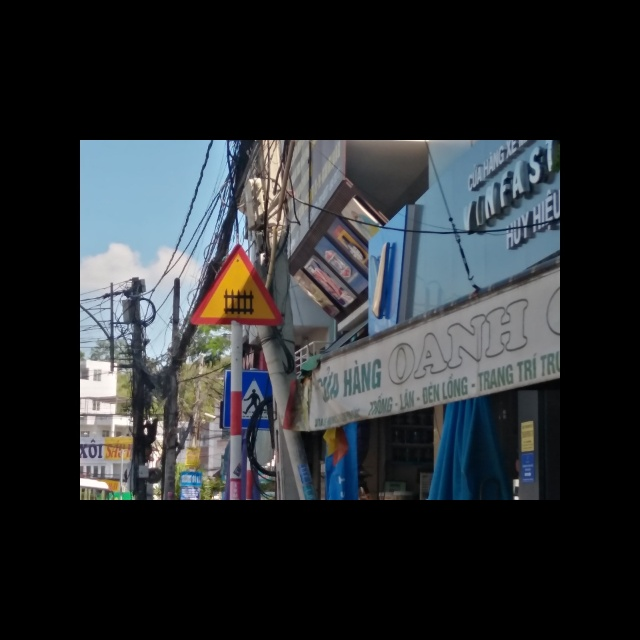Giao nhau với đường sắt có rào chắn: (190, 242, 287, 326)
